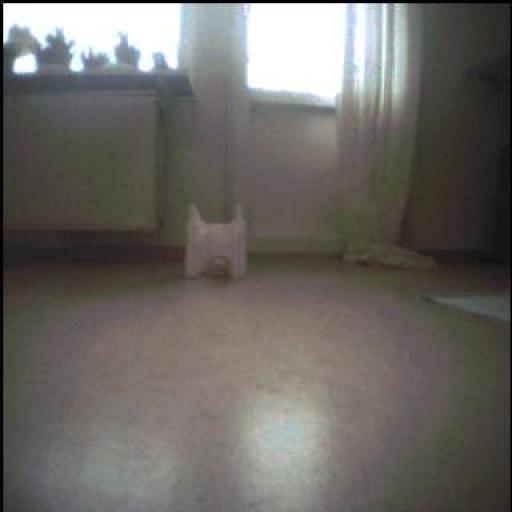Basket: (205, 256, 233, 284)
